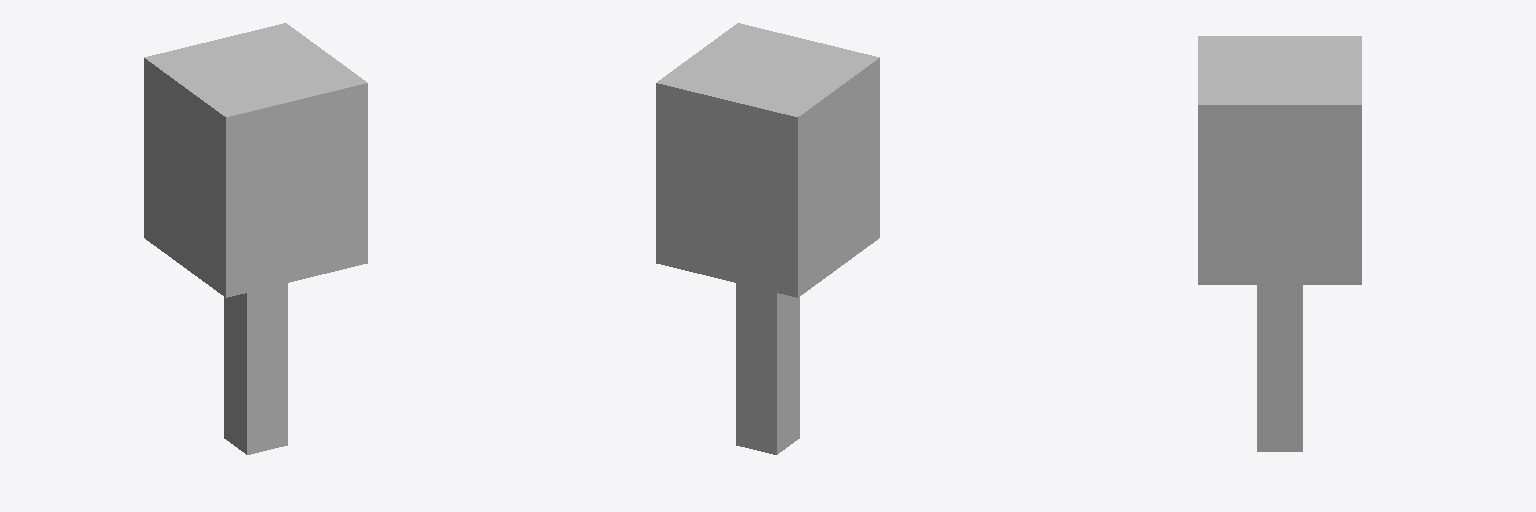
Rendered from tree_1.obj.
3 renders of one model, left to right at view 1: azimuth 30°, elevation 25°; view 2: azimuth 150°, elevation 25°; view 3: azimuth 270°, elevation 25°, orthographic.
Visible parts, largest first — view 1: object 1; view 2: object 1; view 3: object 1.
Part boxes in pixels (x1,y1,x2,y2): object 1: (144,23,367,454); object 1: (656,23,879,454); object 1: (1198,36,1361,451).
Bounding box in the file's own units: 1.4 × 3.5 × 1.4.